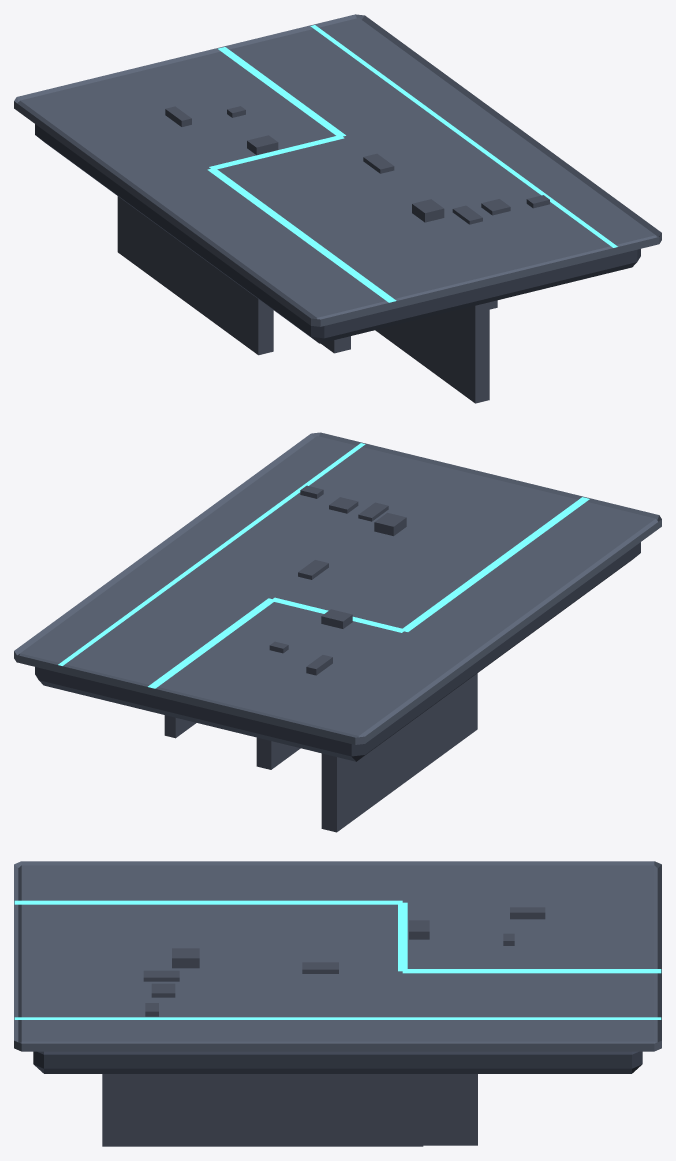
Rendered from platform_straight.glb.
3 renders of one model, top to bottom at view 1: azimuth 30°, elevation 25°; view 2: azimuth 150°, elevation 25°; view 3: azimuth 270°, elevation 25°, orthographic. The views are drawn at different scales.
Parts seen in each view (by area): view 1: platform_straight; view 2: platform_straight; view 3: platform_straight.
Part boxes in pixels (x1,y1,x2,y2): platform_straight: (14,14,661,403); platform_straight: (14,432,661,832); platform_straight: (14,861,661,1146).
Size of the model in its own units: 4 by 1.86 by 6.
